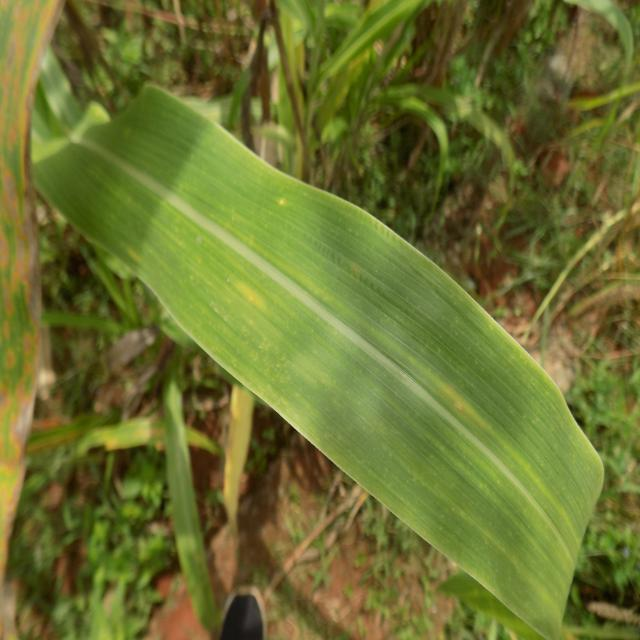millet_healthy: (32, 83, 608, 640)
millet_rust: (0, 2, 61, 596)
